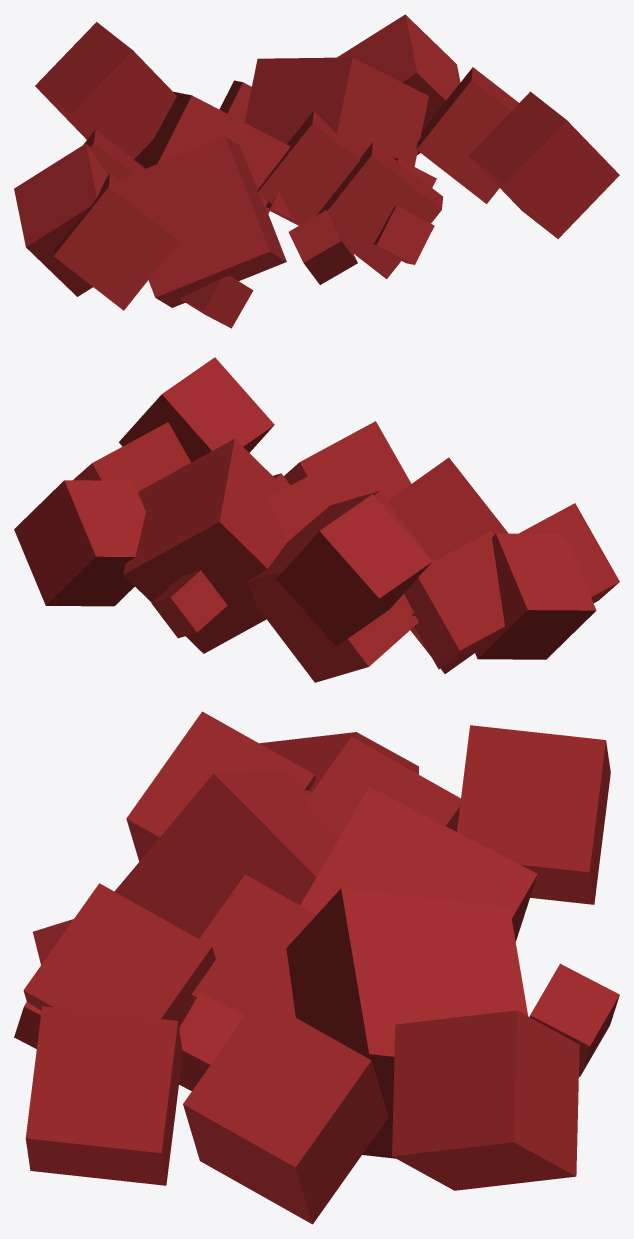
Rendered from Berry_cuted.fbx.
The picture shows the model from 3 angles, top to bottom: view 1: azimuth 30°, elevation 25°; view 2: azimuth 150°, elevation 25°; view 3: azimuth 270°, elevation 25°; orthographic projection. The views are drawn at different scales.
Parts seen in each view (by area): view 1: Berry_cuted; view 2: Berry_cuted; view 3: Berry_cuted.
Boxes of the visible parts, x1,y1,x2,y2 form: Berry_cuted: (14,14,619,328); Berry_cuted: (14,357,619,682); Berry_cuted: (14,711,619,1224).
Bounding box in the file's own units: 9.33 × 3.69 × 6.18.
